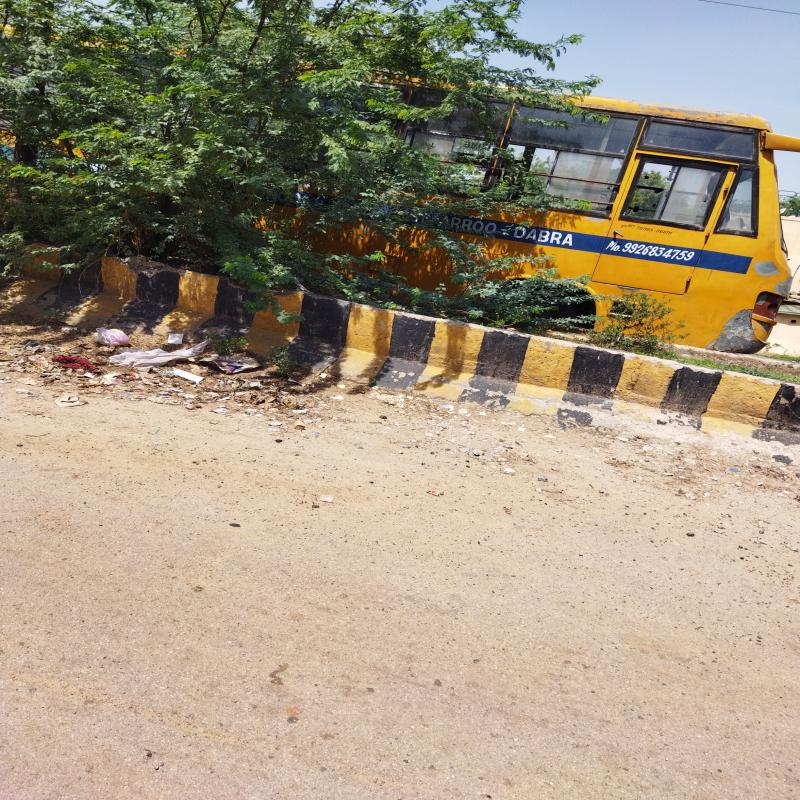bus: (250, 44, 792, 364)
